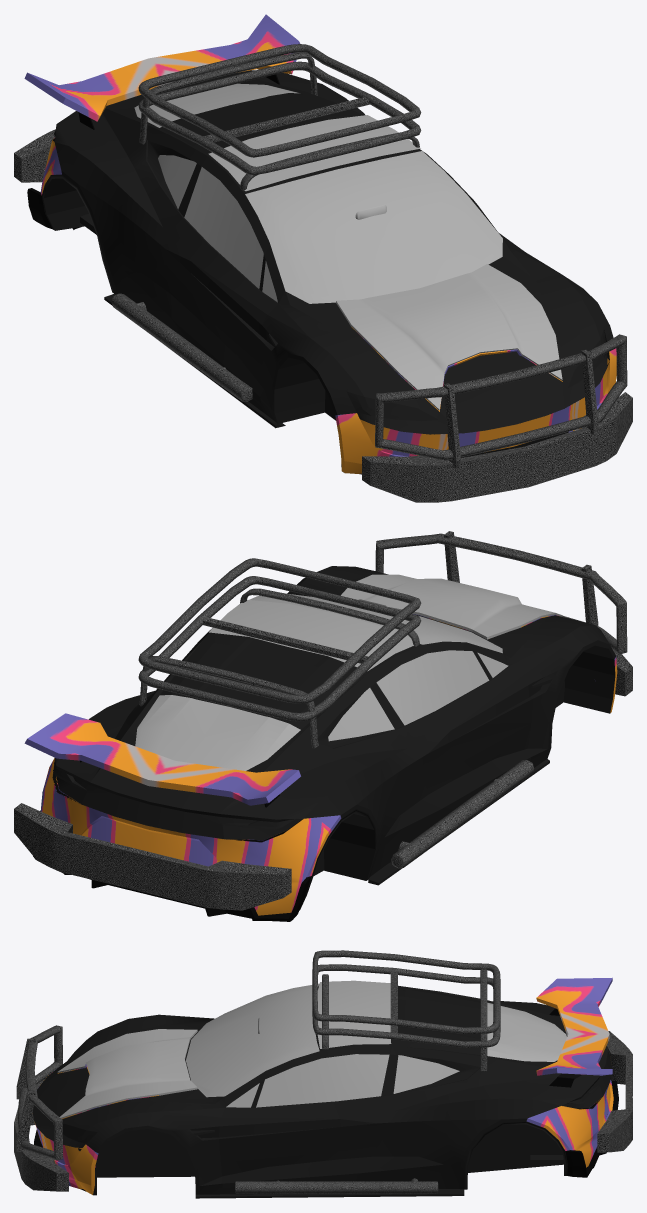
File: tesla_1.fbx
3 renders of one model, top to bottom at view 1: azimuth 30°, elevation 25°; view 2: azimuth 150°, elevation 25°; view 3: azimuth 270°, elevation 25°, orthographic. The views are drawn at different scales.
Parts seen in each view (by area): view 1: Main_shpe.014, carbon_tesla, pasted__pasted__pasted__polySurface21, pasted__pasted__pasted__polySurface31, polySurface1, Bumperfront, Bumperback; view 2: Main_shpe.014, pasted__pasted__pasted__polySurface31, pasted__pasted__pasted__polySurface21, carbon_tesla, Bumperback, polySurface1; view 3: Main_shpe.014, carbon_tesla, pasted__pasted__pasted__polySurface31, pasted__pasted__pasted__polySurface21, polySurface1, Bumperback, Bumperfront.
Boxes of the visible parts, bbox=[...] form: Main_shpe.014: bbox=[42, 70, 613, 474]; carbon_tesla: bbox=[208, 115, 562, 410]; pasted__pasted__pasted__polySurface21: bbox=[14, 129, 632, 502]; pasted__pasted__pasted__polySurface31: bbox=[111, 44, 421, 401]; polySurface1: bbox=[24, 14, 300, 121]; Bumperfront: bbox=[335, 348, 616, 473]; Bumperback: bbox=[27, 138, 80, 229]; Main_shpe.014: bbox=[53, 566, 615, 910]; pasted__pasted__pasted__polySurface31: bbox=[138, 558, 534, 868]; pasted__pasted__pasted__polySurface21: bbox=[14, 531, 632, 910]; carbon_tesla: bbox=[209, 574, 562, 671]; Bumperback: bbox=[33, 758, 341, 921]; polySurface1: bbox=[24, 713, 300, 805]; Main_shpe.014: bbox=[32, 983, 612, 1198]; carbon_tesla: bbox=[57, 980, 391, 1118]; pasted__pasted__pasted__polySurface31: bbox=[235, 950, 500, 1193]; pasted__pasted__pasted__polySurface21: bbox=[14, 1025, 632, 1191]; polySurface1: bbox=[536, 977, 612, 1075]; Bumperback: bbox=[526, 1079, 618, 1177]; Bumperfront: bbox=[34, 1070, 98, 1194].
Size of the model in its own units: 216 by 151 by 502.
